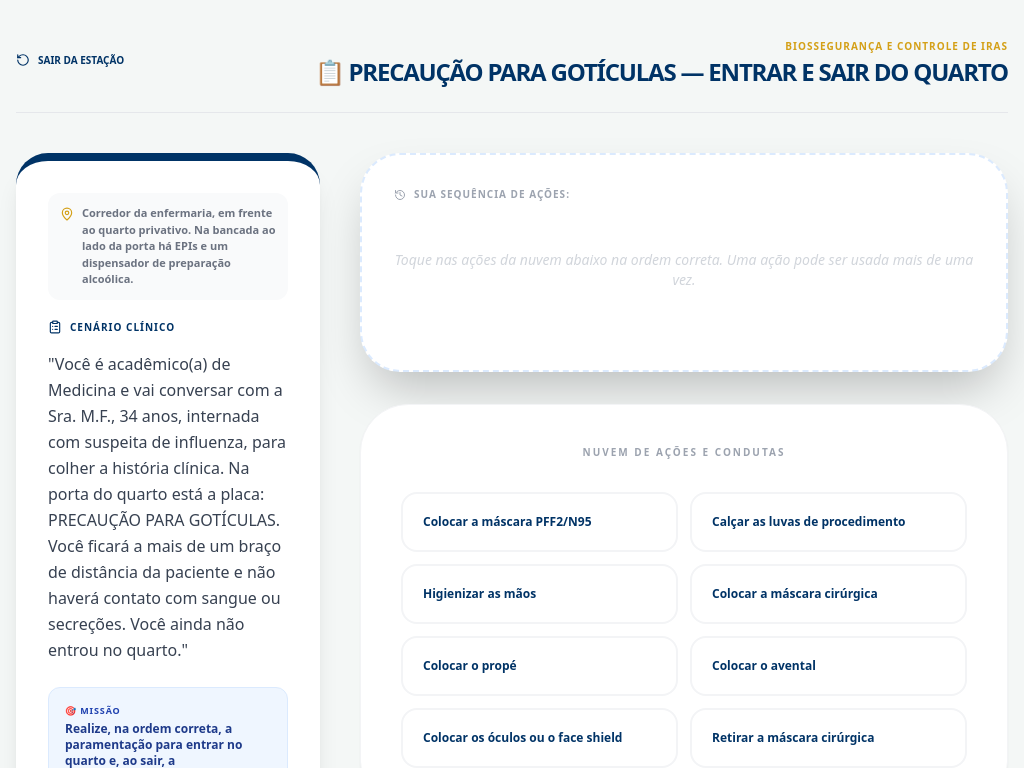
as estações do arquivo de importação no player › hm1-n1-c2: o gabarito na ordem dá nota 10
The width and height of the screenshot is (1024, 768).
What coordinates should you click on to do the following:
click the button "Higienizar as mãos"
I would click on:
 (480, 594)
Its box is [401,564,678,624].
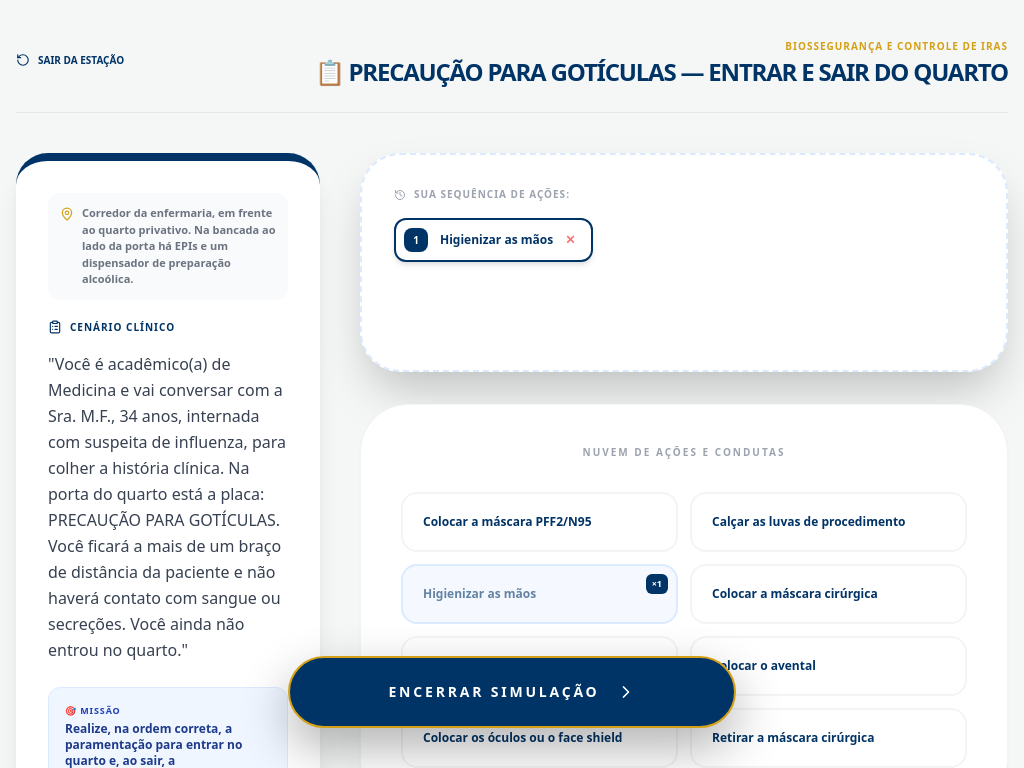
What coordinates should you click on to do the following:
click the button "Colocar a máscara cirúrgica"
I would click on:
 (828, 594)
Its box is [690,564,967,624].
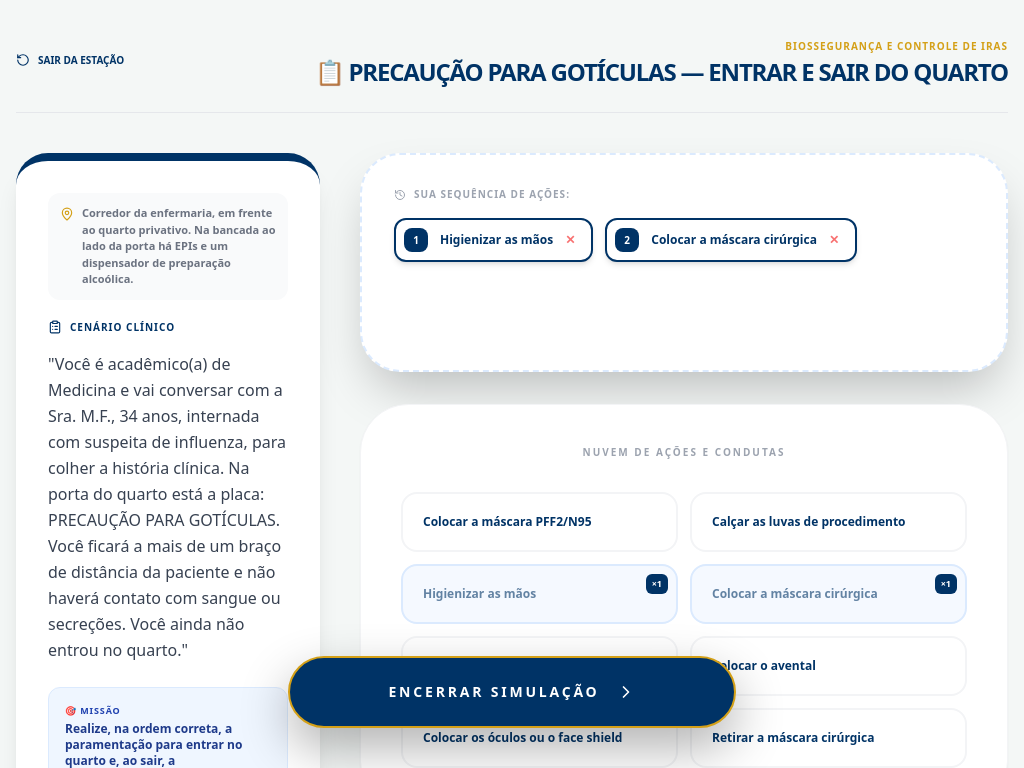
What coordinates should you click on to do the following:
click the button "Retirar a máscara cirúrgica"
I would click on:
 (828, 738)
Its box is [690,708,967,767].
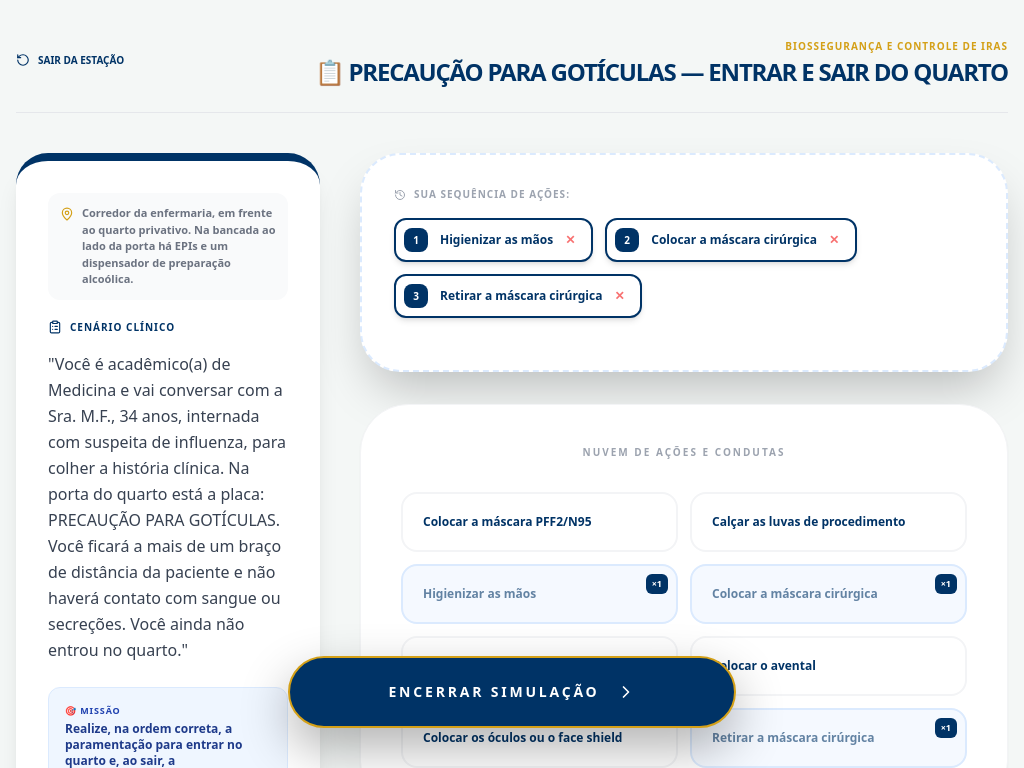
What coordinates should you click on to do the following:
click the button "Higienizar as mãos ×1"
I would click on:
 (480, 594)
Its box is [401,564,678,624].
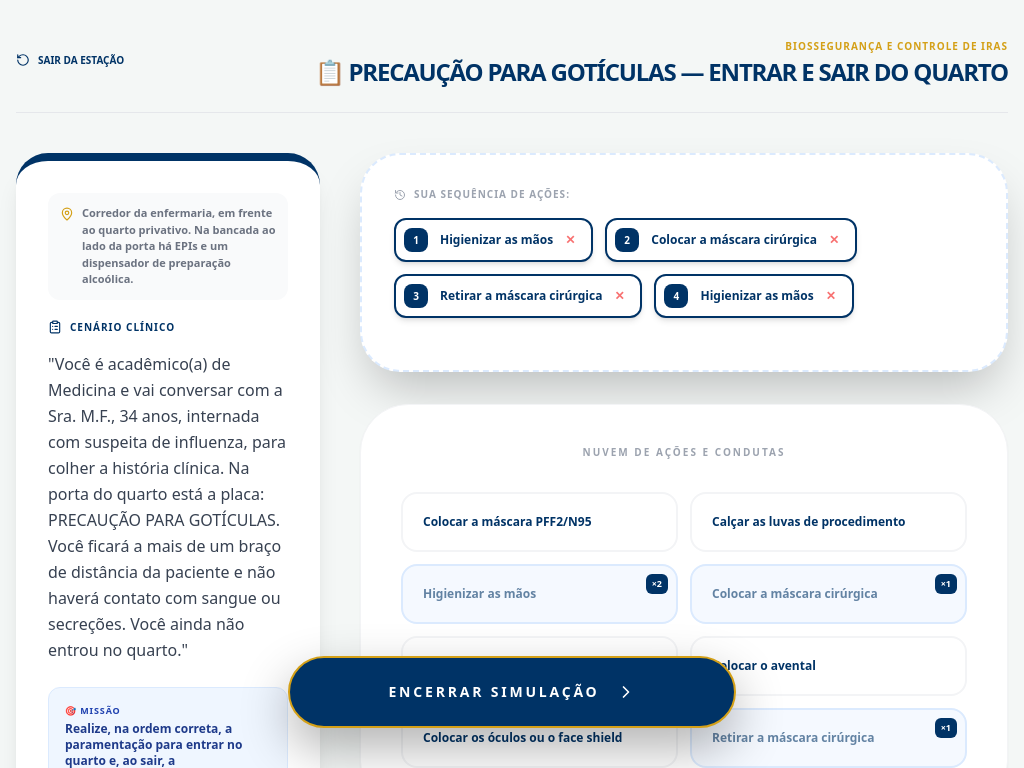
What coordinates should you click on to do the following:
click the button "Encerrar Simulação"
I would click on:
 (512, 692)
Its box is [288,656,736,728].
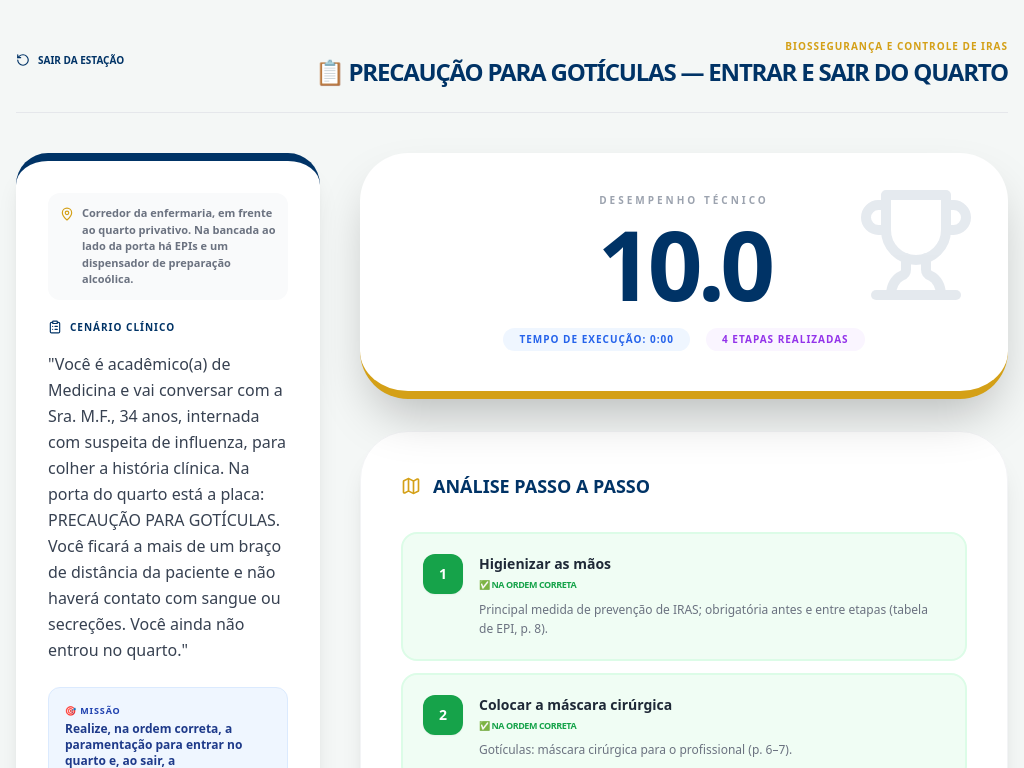
Expected: the heading "10.0" is shown, [598,198,770,329]
